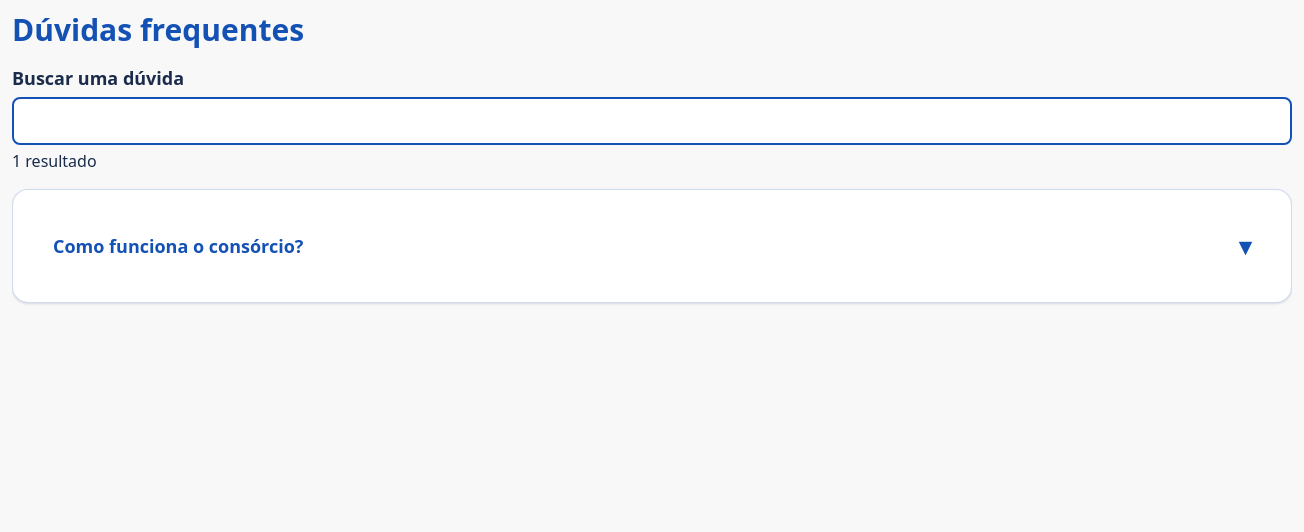
Test: Faq (4 estados de tela) › mostra cuidados, link da fonte, data de revisão e o aviso de informação geral
Click the button "Como funciona o consórcio? ▾" at (178, 246), box [37,214,1267,278]
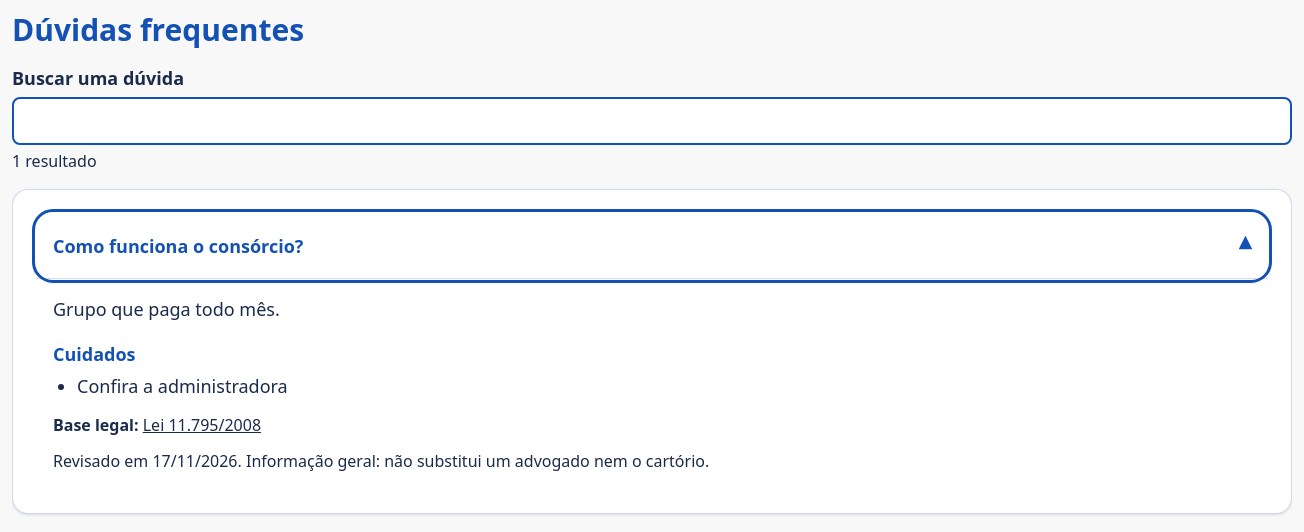
Result: the list item "Confira a administradora" is shown at [77,374,288,398]
Result: the text "Revisado em 17/11/2026" is shown at [53,450,709,472]
Result: the text "não substitui um advogado" is shown at [246,450,709,472]
